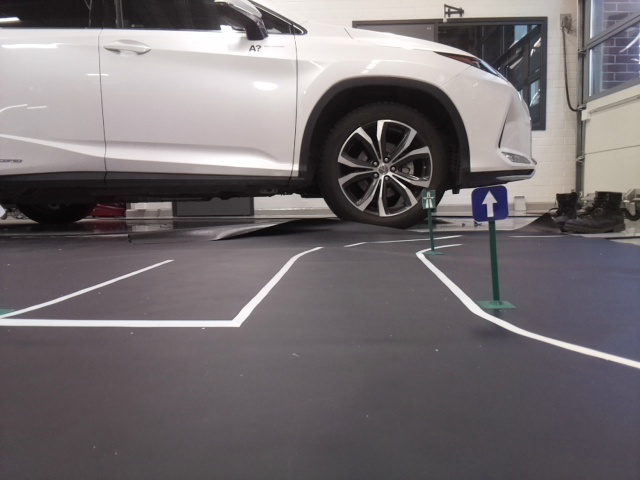HighwayEntrance: (422, 189, 436, 208)
OneWay: (473, 191, 507, 218)
